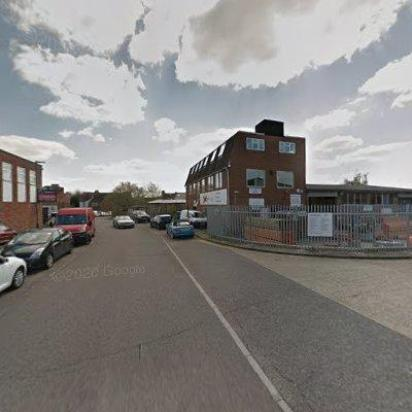moving-car: (112, 214, 135, 230)
stationary-car-onstreet: (0, 226, 76, 272), (0, 254, 28, 298), (166, 223, 194, 238), (148, 213, 172, 228), (130, 210, 150, 224)
stationary-light-truck-offstreet: (180, 208, 206, 228)
stationary-light-truck-onstreet: (52, 206, 96, 246)
